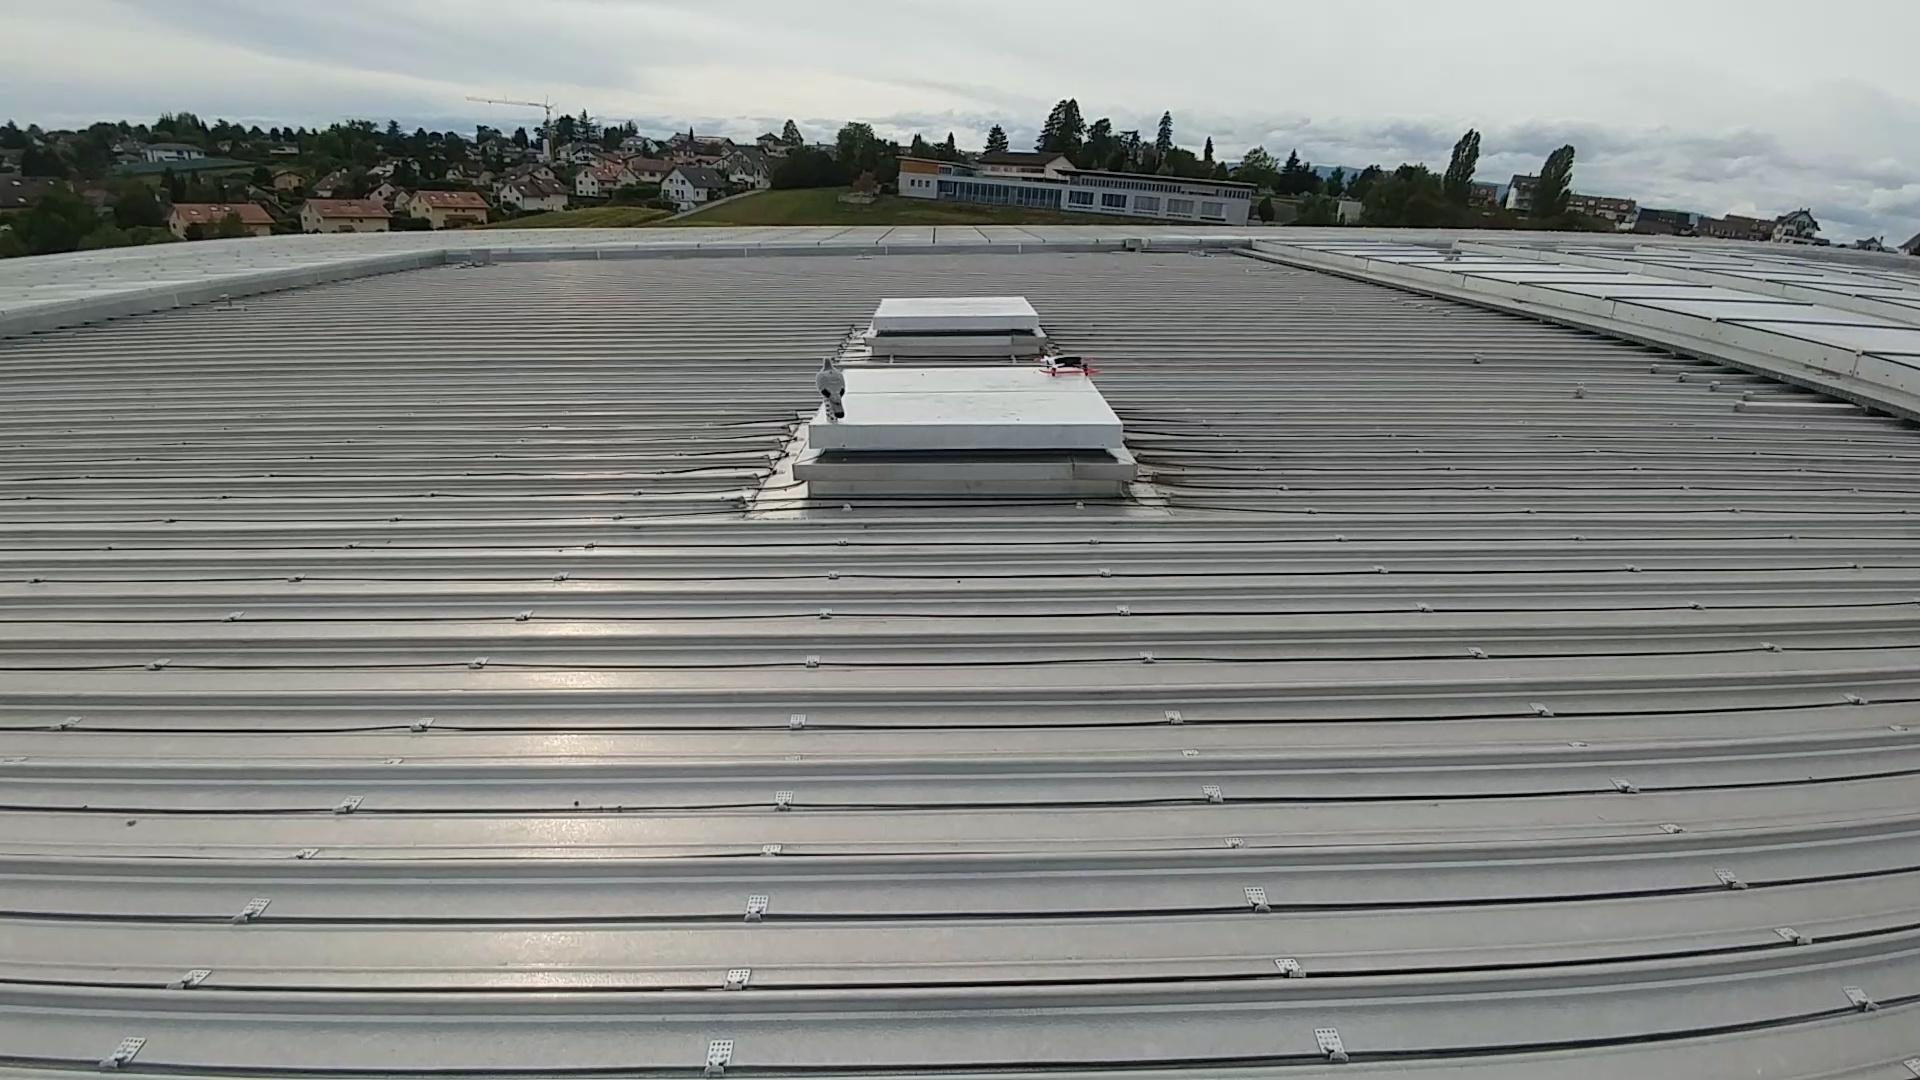Pigeon: (814, 351, 852, 419)
